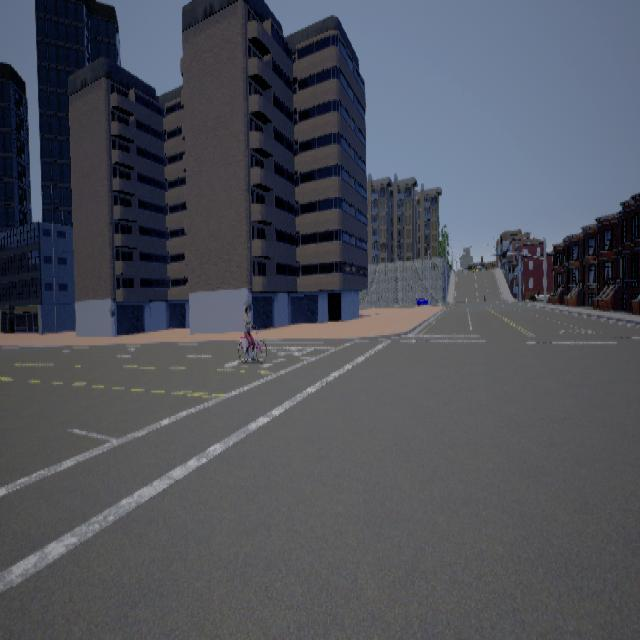bike: (233, 296, 272, 366)
